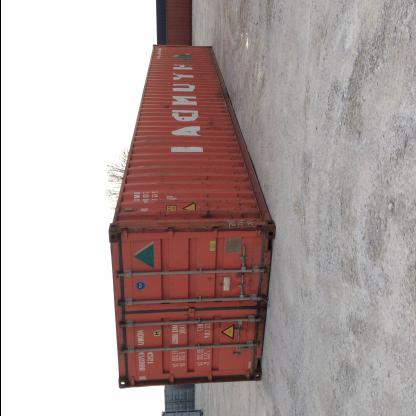Damage: (138, 164, 250, 188), (202, 192, 234, 223), (232, 191, 258, 217), (179, 220, 223, 235), (141, 198, 198, 208), (203, 115, 221, 136), (213, 91, 227, 113), (223, 139, 237, 161), (232, 272, 252, 286), (152, 209, 170, 222), (143, 134, 157, 148), (141, 224, 158, 234), (196, 73, 210, 81), (162, 102, 170, 112), (205, 275, 213, 283), (165, 79, 170, 91), (218, 282, 223, 290)
